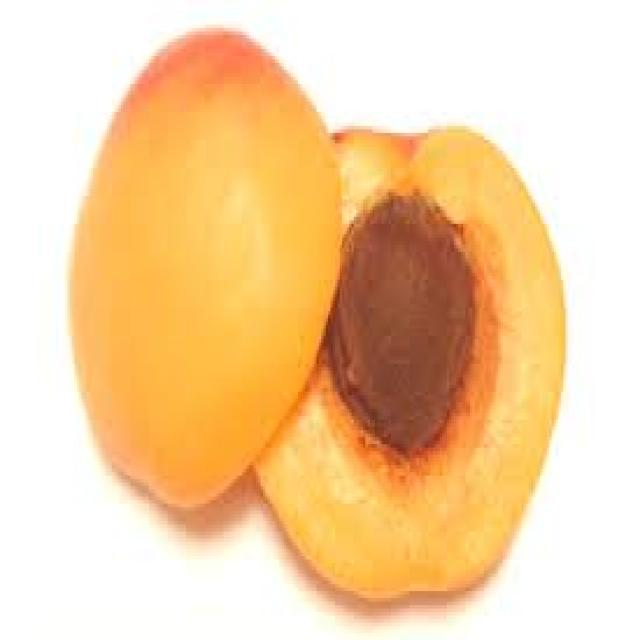apricot: (51, 14, 570, 605)
